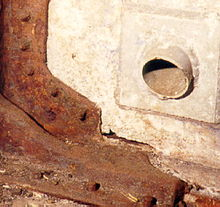rust: (28, 127, 220, 206), (1, 1, 46, 206)
